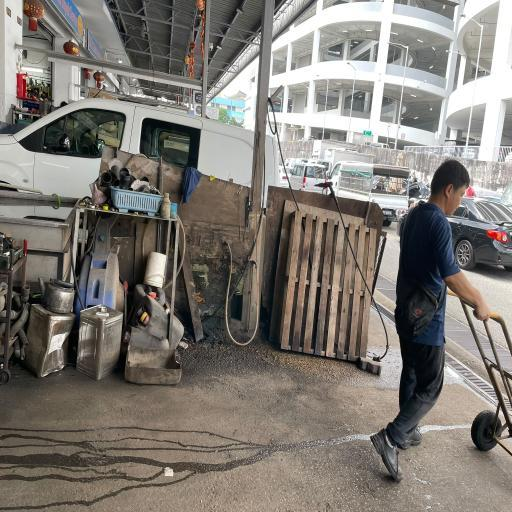person_right: (370, 159, 512, 482)
